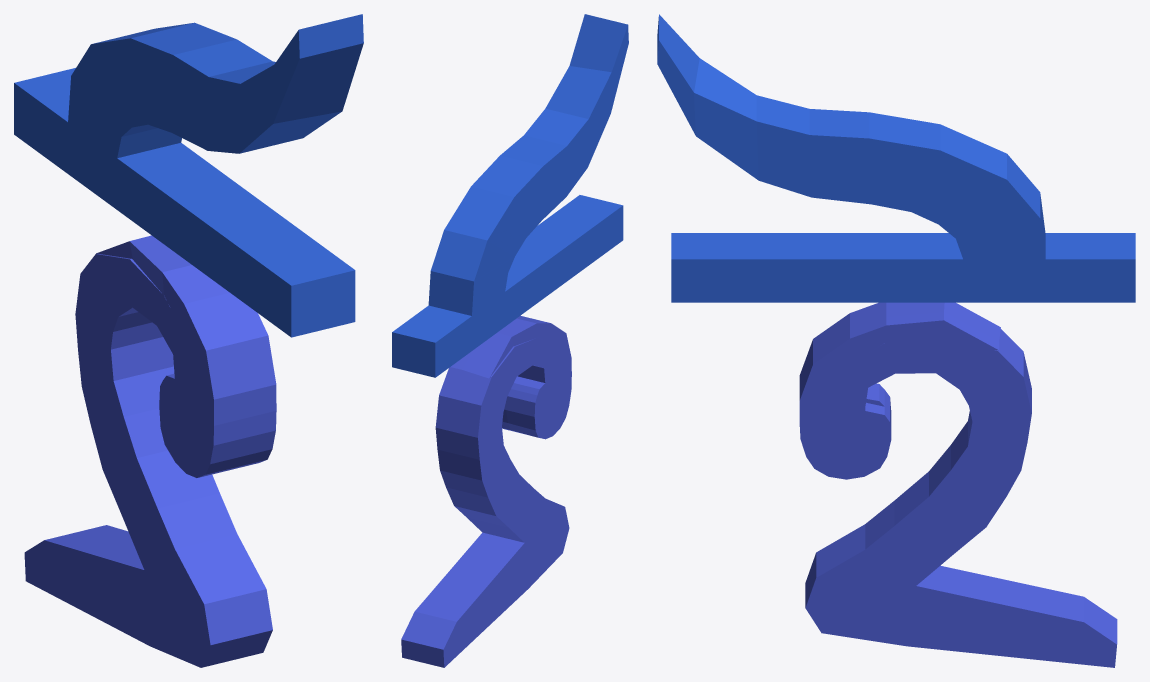
3 views of the same model, side by side, from view 1: azimuth 30°, elevation 25°; view 2: azimuth 150°, elevation 25°; view 3: azimuth 270°, elevation 25° (orthographic). The views are drawn at different scales.
Visible parts, largest first — view 1: Cube.001, Cube; view 2: Cube, Cube.001; view 3: Cube, Cube.001.
Boxes of the visible parts, bbox=[...] form: Cube.001: bbox=[24, 235, 276, 667]; Cube: bbox=[14, 14, 363, 337]; Cube: bbox=[392, 14, 628, 377]; Cube.001: bbox=[401, 315, 571, 667]; Cube: bbox=[657, 14, 1135, 302]; Cube.001: bbox=[799, 302, 1117, 667].
Size of the model in its own units: 106 by 1139 by 786.
